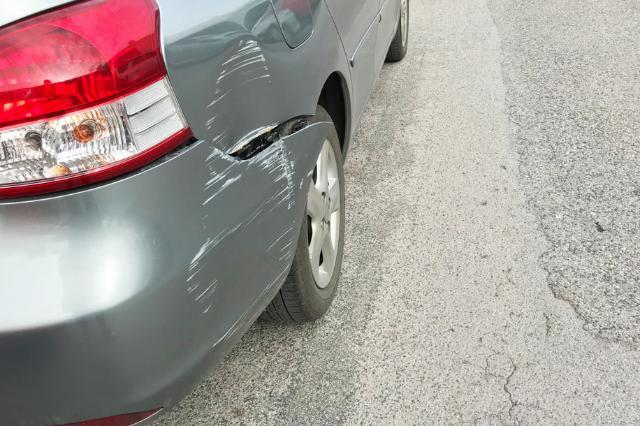Bumper: (188, 139, 312, 342)
Fender: (169, 9, 330, 141)
